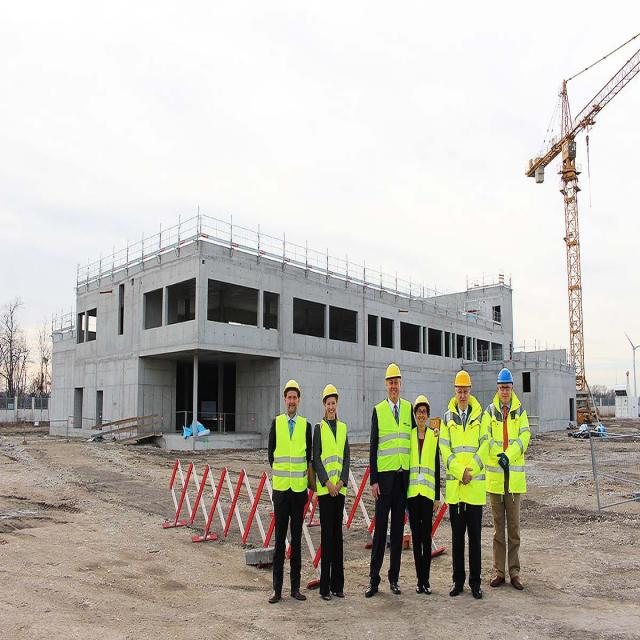body: (362, 360, 440, 601), (436, 368, 491, 602), (480, 364, 532, 596), (265, 377, 314, 606), (310, 380, 353, 600), (403, 390, 442, 596)
